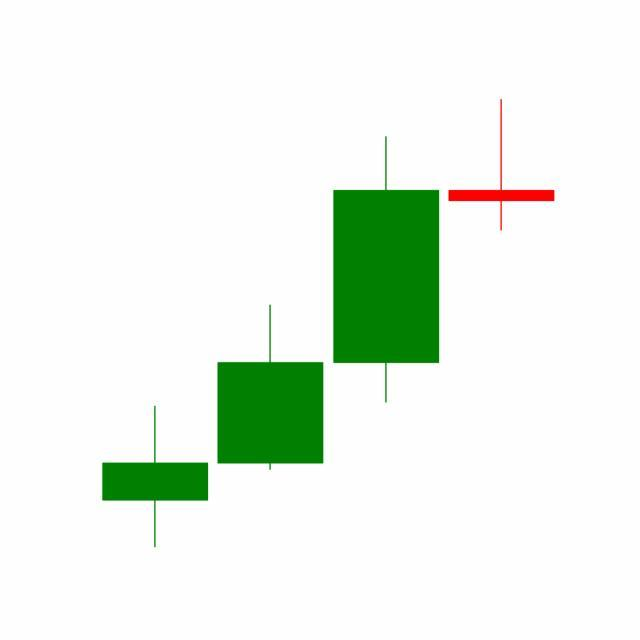Spinning Top: (444, 98, 560, 233)
